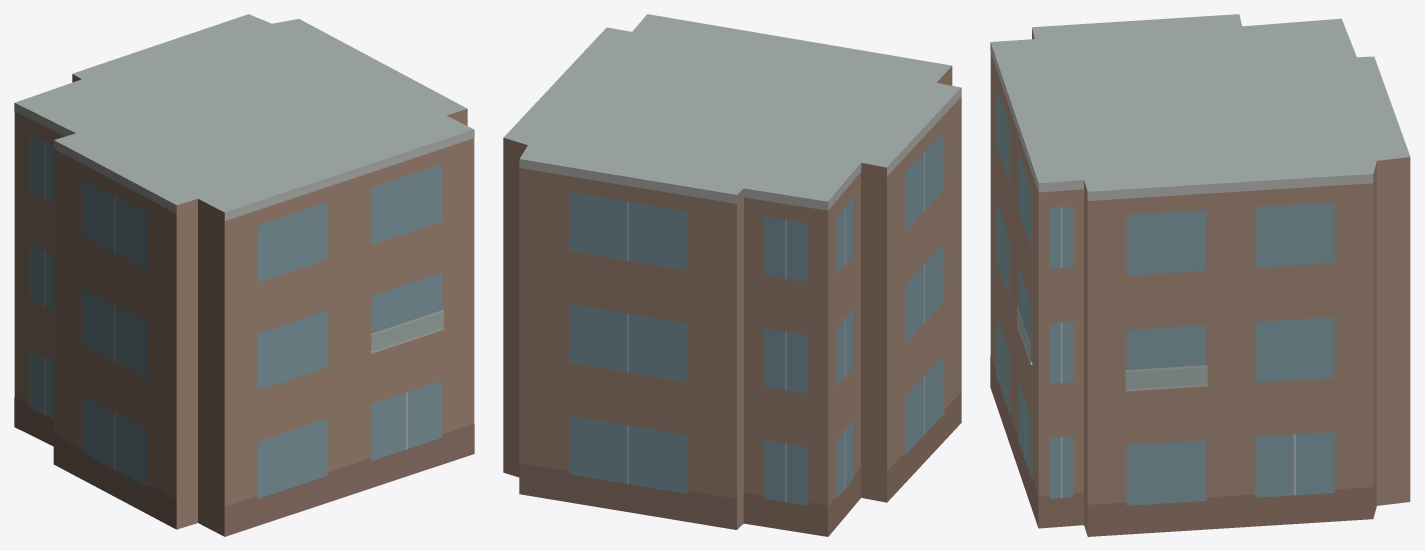
The model's file is survey-upis-32722047.glb.
3 renders of one model, left to right at view 1: azimuth 30°, elevation 25°; view 2: azimuth 150°, elevation 25°; view 3: azimuth 270°, elevation 25°, orthographic. The views are drawn at different scales.
Parts seen in each view (by area): view 1: survey-upis-32722047.tmp; view 2: survey-upis-32722047.tmp; view 3: survey-upis-32722047.tmp.
Part boxes in pixels (bbox=[...]): survey-upis-32722047.tmp: bbox=[14, 14, 474, 536]; survey-upis-32722047.tmp: bbox=[503, 14, 961, 536]; survey-upis-32722047.tmp: bbox=[990, 14, 1410, 536].
Bounding box in the file's own units: 10.12 × 9.15 × 10.11.
